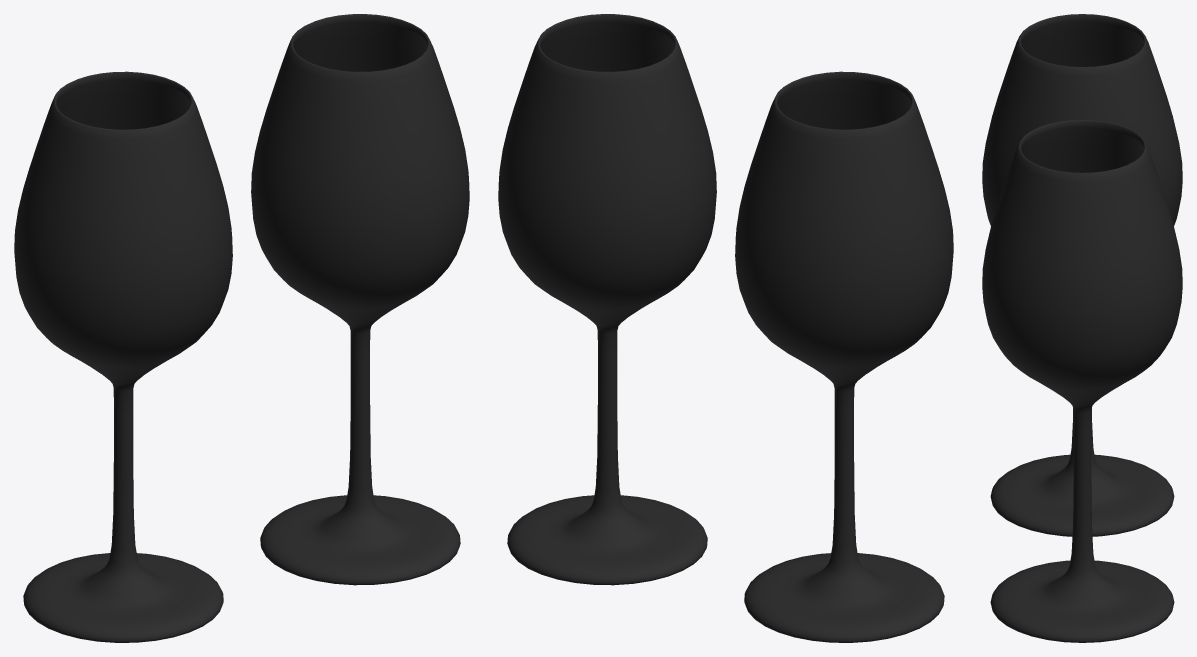
Rendered from glass.glb.
The picture shows the model from 3 angles, left to right: view 1: azimuth 30°, elevation 25°; view 2: azimuth 150°, elevation 25°; view 3: azimuth 270°, elevation 25°; orthographic projection. The views are drawn at different scales.
Parts seen in each view (by area): view 1: Copa _1, Copa 2_3; view 2: Copa _1, Copa 2_3; view 3: Copa 2_3, Copa _1.
Part boxes in pixels (x1,y1,x2,y2): Copa _1: (14, 71, 232, 642); Copa 2_3: (251, 14, 469, 585); Copa _1: (735, 71, 953, 642); Copa 2_3: (498, 14, 716, 585); Copa 2_3: (982, 120, 1182, 642); Copa _1: (982, 14, 1182, 536).
Size of the model in its own units: 0.1382 by 0.1552 by 0.0615.
Materials: 3 (3 with a texture image).
